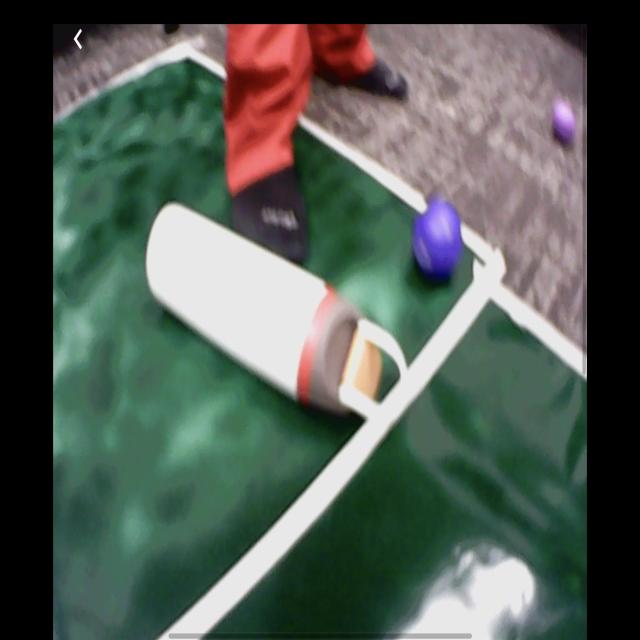ball: (413, 198, 462, 279), (553, 101, 575, 146)
